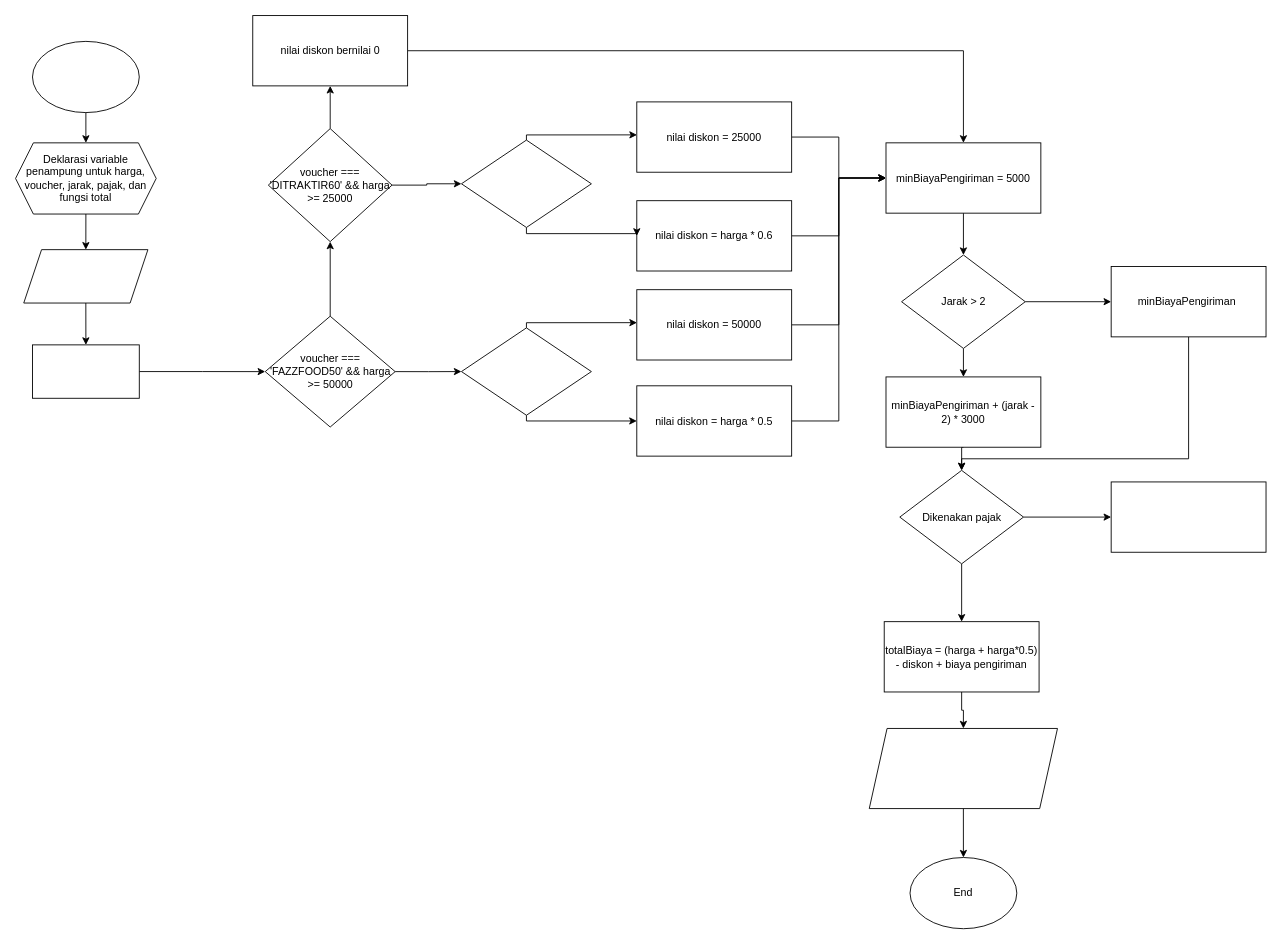
The diagram is 1282 pixels wide and 944 high, and some of its shapes have lost their labels. Here are the shapes that lost their labels. From the top down, the centre of each, then its label:
[85,76]: Start
[526,183]: Pengecekan nilai maximal diskon >=25000
[85,276]: Input harga, voucher, jarak dan pajak
[85,371]: Proses hitungDiskon dala fungsi Fazzfood
[526,371]: Pengecekan nilai maximal diskon >=50000
[1188,516]: totalBiaya = harga - diskon + biaya pengiriman
[962,768]: Outpt Total biaya
